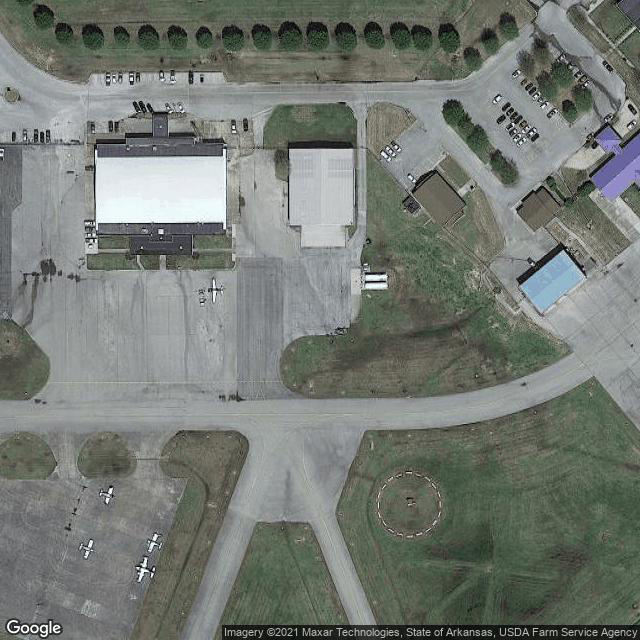Helipad: (376, 467, 445, 541)
